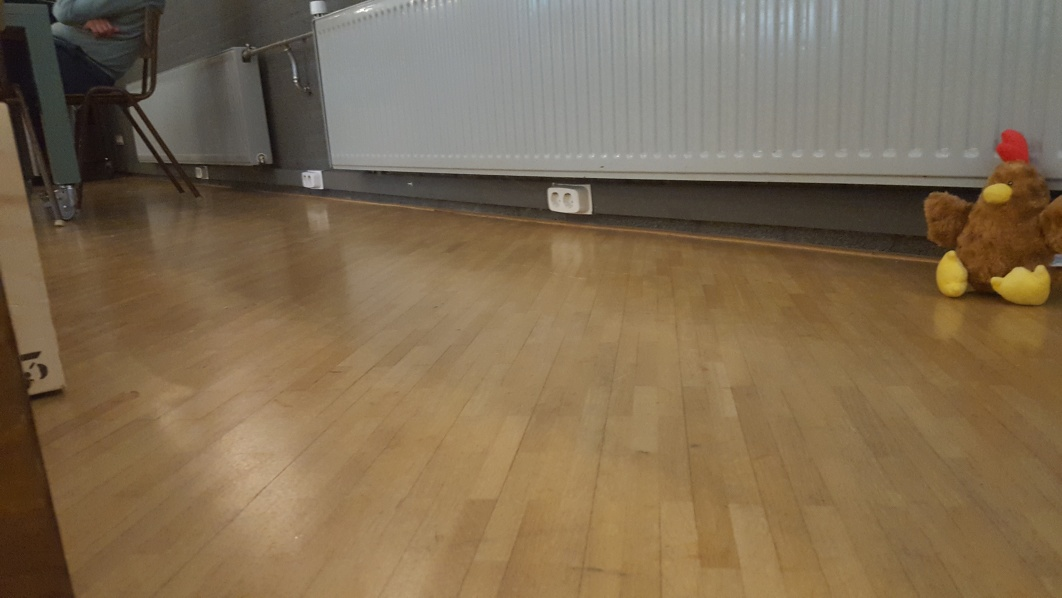chicken: (923, 128, 1062, 306)
